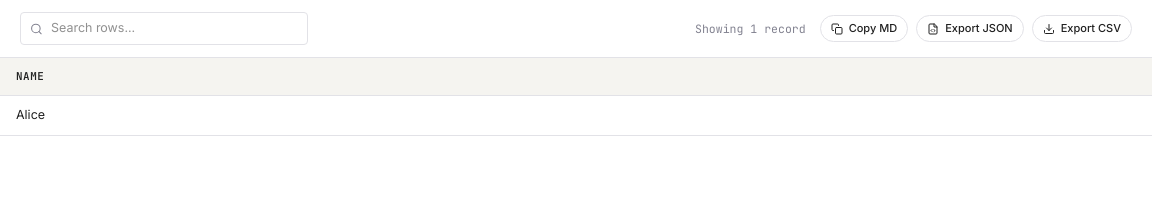
ResultsTable Component › shows empty filter message when search has no matches
Type "nonexistent" into the field named "search result rows".
click(164, 29); type("nonexistent")  # box [20,12,308,46]
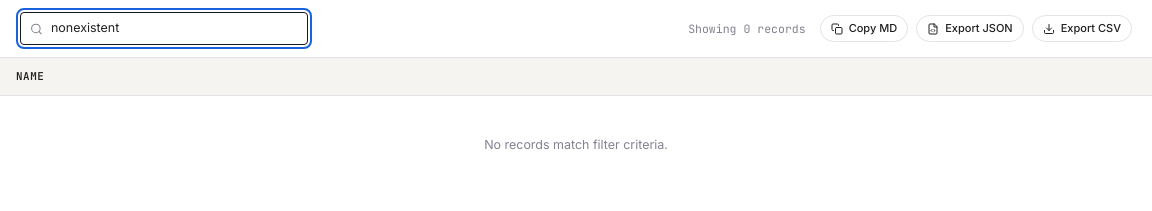
expect the text "No records match filter criteria." is shown: met, box [0,95,1151,194]
